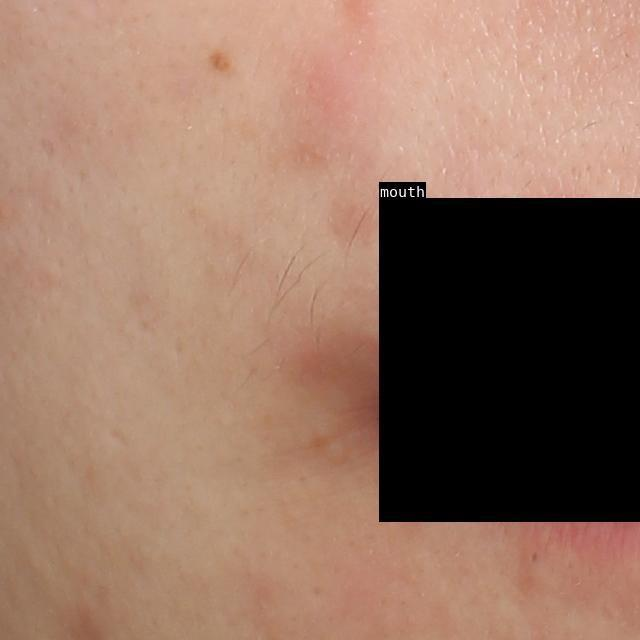comedo: (526, 545, 544, 566)
nevus: (210, 49, 231, 72)
